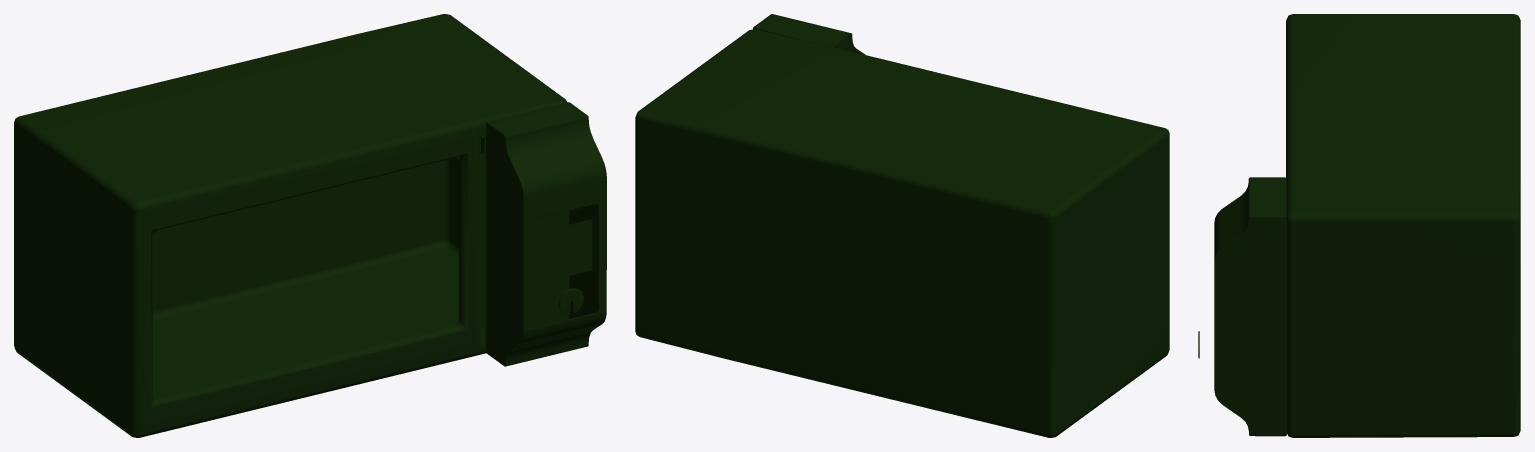
The model's file is Microwave_1_bodymesh_0_6.obj.
3 renders of one model, left to right at view 1: azimuth 30°, elevation 25°; view 2: azimuth 150°, elevation 25°; view 3: azimuth 270°, elevation 25°, orthographic. The views are drawn at different scales.
Size of the model in its own units: 0.6047 by 0.3512 by 0.4049.
